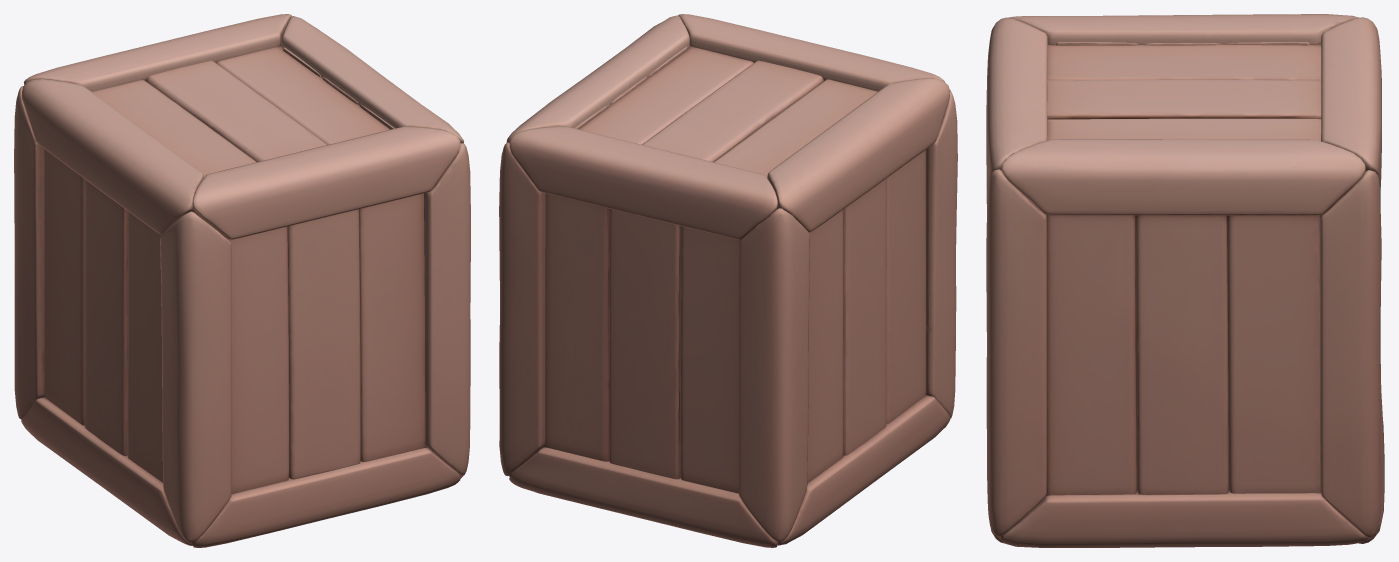
The model's file is wooden box.glb.
The picture shows the model from 3 angles, left to right: view 1: azimuth 30°, elevation 25°; view 2: azimuth 150°, elevation 25°; view 3: azimuth 270°, elevation 25°; orthographic projection. The views are drawn at different scales.
Visible parts, largest first — view 1: tripo_6aee77b8_f26d_4930_968d_43b702616290; view 2: tripo_6aee77b8_f26d_4930_968d_43b702616290; view 3: tripo_6aee77b8_f26d_4930_968d_43b702616290.
Part boxes in pixels (box(x1,y1,x2,y2)): tripo_6aee77b8_f26d_4930_968d_43b702616290: box(14, 14, 470, 547); tripo_6aee77b8_f26d_4930_968d_43b702616290: box(499, 14, 957, 547); tripo_6aee77b8_f26d_4930_968d_43b702616290: box(986, 14, 1384, 547).
Size of the model in its own units: 0.8589 by 0.9995 by 0.9175.
Materials: 1 (1 with a texture image).
